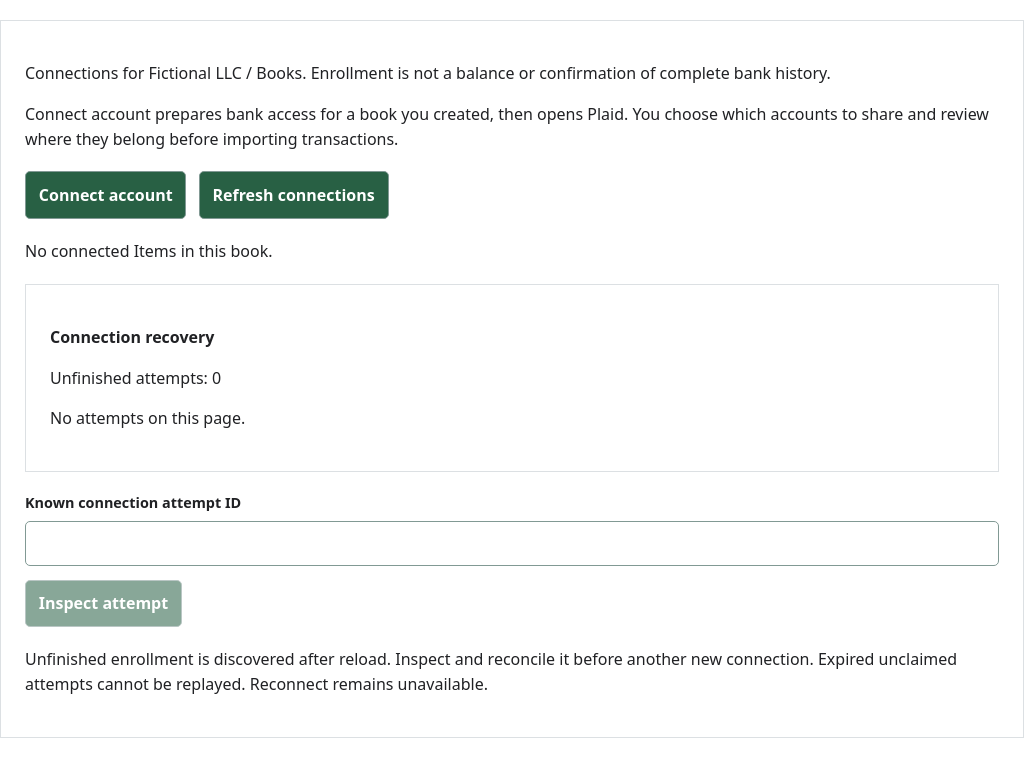
Scenario: TestConnectionsScopeAndRecovery blocks new enrollment after unknown Begin
Expected: the text "No connected Items in this book." is shown, [25, 240, 272, 262]
Click the button "Connect account": point(106, 195) [25, 171, 186, 219]
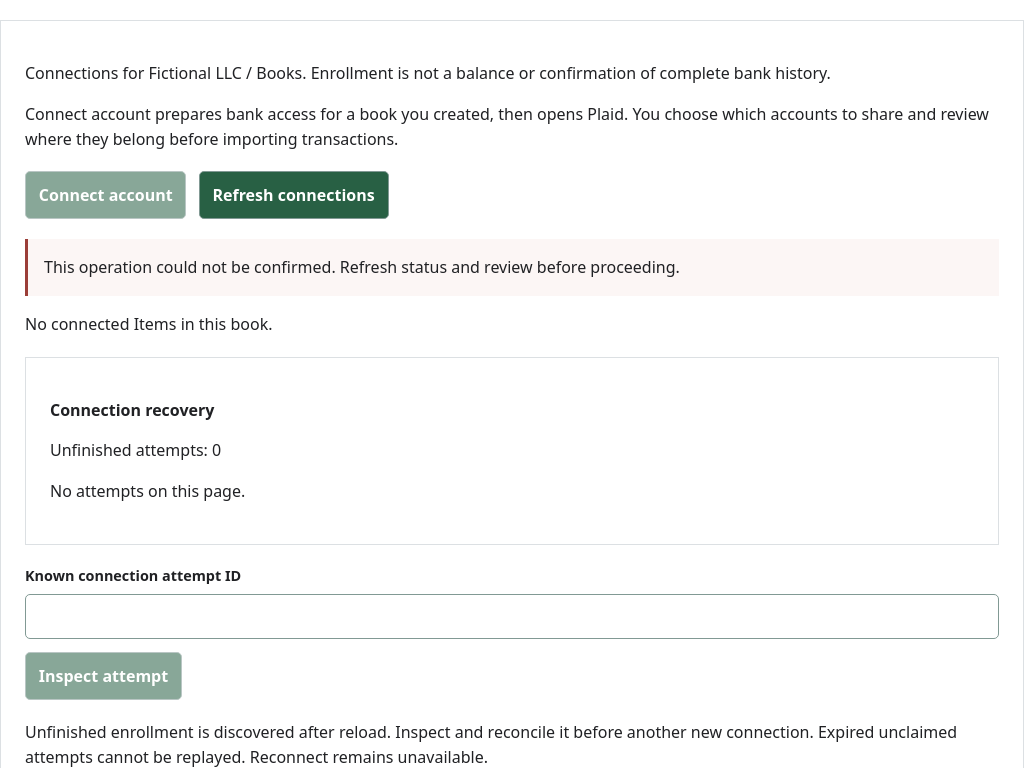
Result: the message is shown at [25, 239, 999, 296]
Result: the button "Connect account" is disabled at [25, 171, 186, 219]
